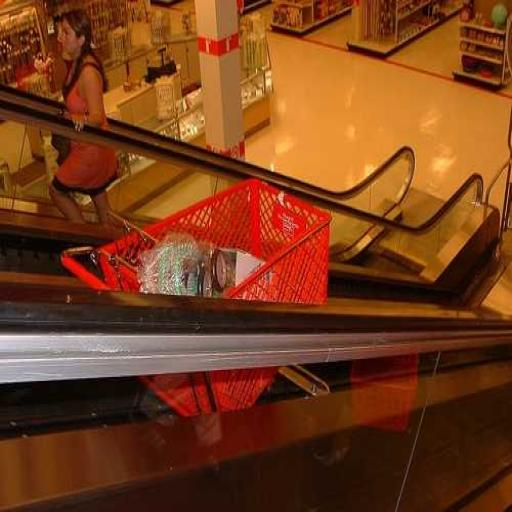shopping_cart: (59, 172, 334, 424)
